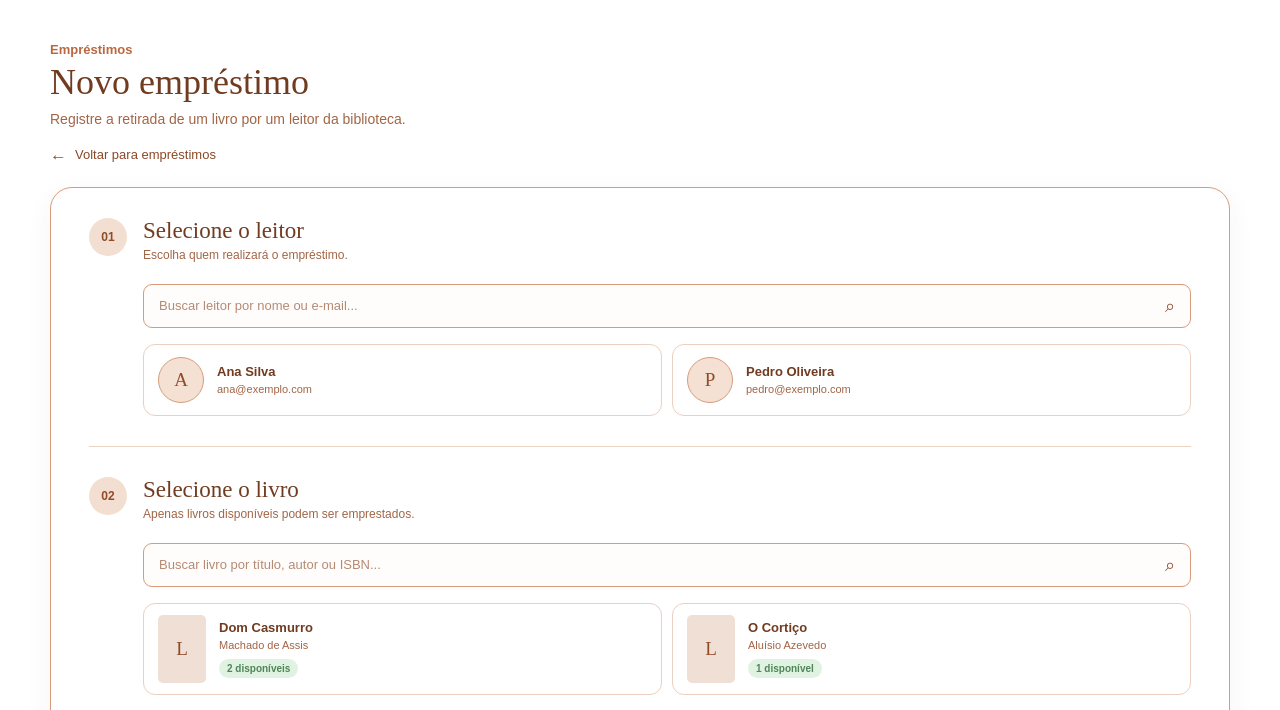
Test: Testes de novo empréstimo › deve exigir a seleção do leitor e do livro
The image size is (1280, 710).
Click the button "A Ana Silva ana@exemplo.com" at coordinates (181, 380), box [143,344,662,416]
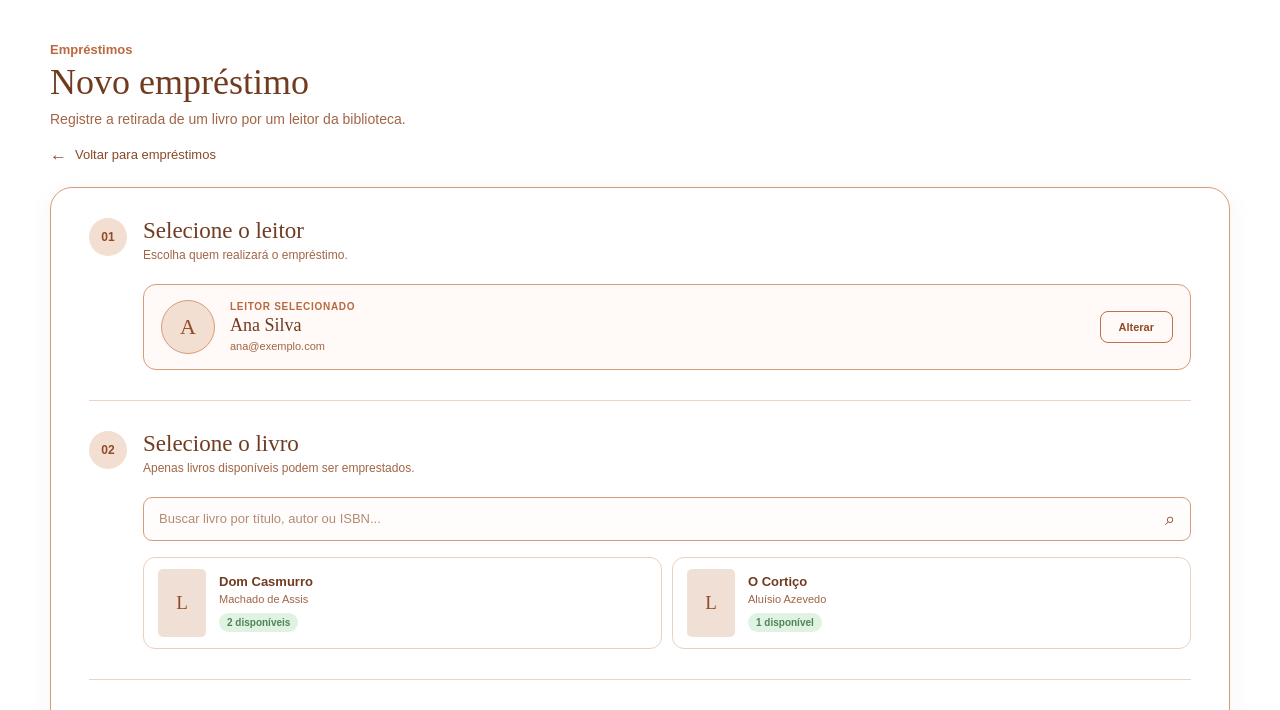
Click the button "L Dom Casmurro Machado de Assis 2 disponíveis" at coordinates (182, 603), box [143,557,662,649]
(page scrolled)
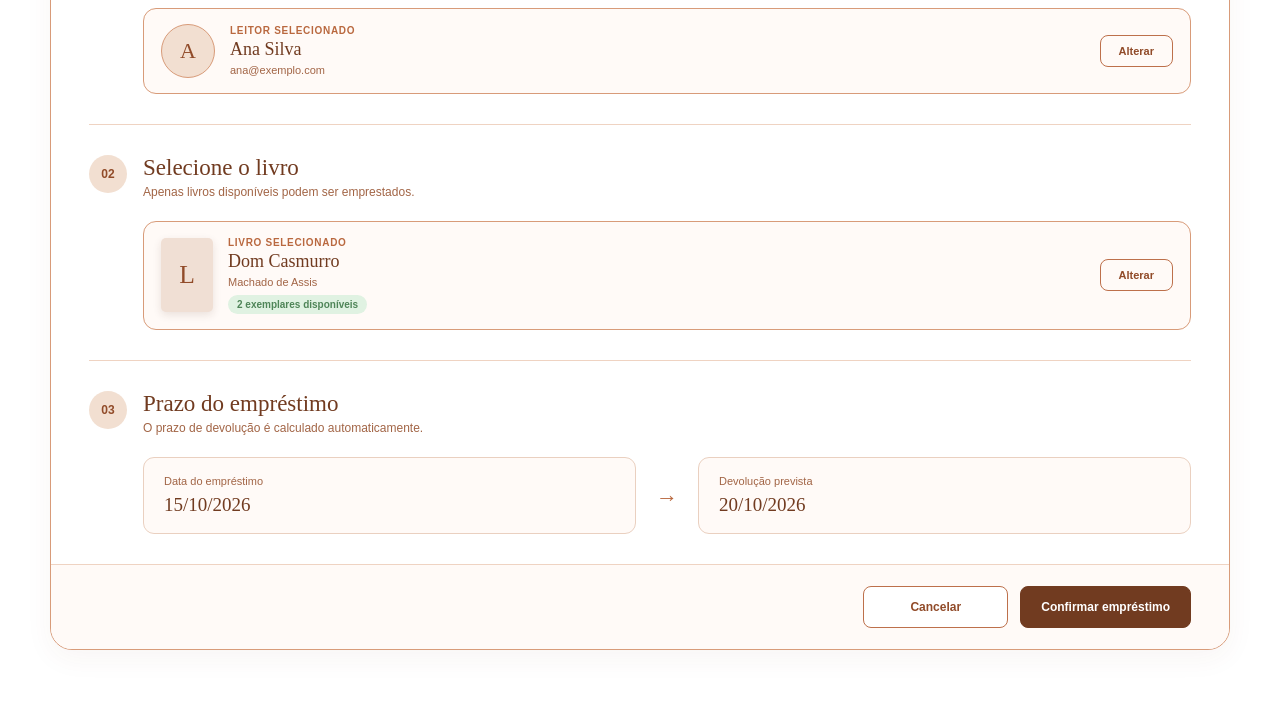
Check: the button "Confirmar empréstimo" is enabled, box [1020,586,1191,628]
